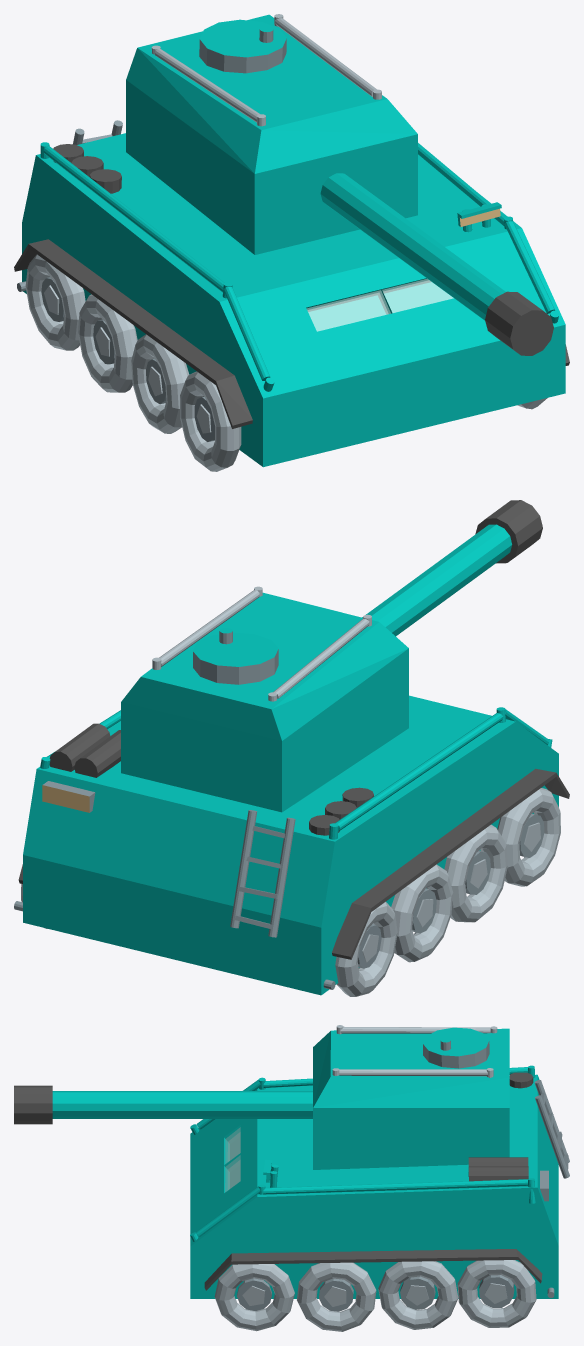
File: tank.glb
The picture shows the model from 3 angles, top to bottom: view 1: azimuth 30°, elevation 25°; view 2: azimuth 150°, elevation 25°; view 3: azimuth 270°, elevation 25°; orthographic projection. The views are drawn at different scales.
Parts seen in each view (by area): view 1: group86509209, group1756563036, group817116119, group1232243309, group582267779, group734967092, group536446600, group629430316, group1270404686, group893775564, group1811057353, group992683376 (+4 smaller); view 2: group86509209, group1756563036, group1232243309, group817116119, group734967092, group536446600, group582267779, group1270404686, group629430316, group893775564, group992683376, group369301269 (+6 smaller); view 3: group86509209, group1756563036, group817116119, group118968215, group405757797, group1013115455, group1070314612, group796567886, group588771903, group1270404686, group992683376, group891633796 (+6 smaller).
Boxes of the visible parts, x1,y1,x2,y2 form: group86509209: (22,133,565,467); group1756563036: (126,14,417,254); group817116119: (320,173,505,320); group1232243309: (14,239,252,428); group582267779: (78,294,137,392); group734967092: (180,371,241,471); group536446600: (131,334,189,433); group629430316: (25,254,85,350); group1270404686: (199,19,286,73); group893775564: (40,142,274,391); group1811057353: (307,279,453,331); group992683376: (485,291,553,355); group86509209: (23,695,558,995); group1756563036: (121,592,408,812); group1232243309: (332,768,569,959); group817116119: (362,524,512,636); group734967092: (497,788,560,886); group536446600: (444,824,507,922); group582267779: (391,864,453,962); group1270404686: (193,632,278,684); group629430316: (335,901,397,996); group893775564: (329,707,552,839); group992683376: (475,500,542,563); group369301269: (49,723,110,771); group86509209: (190,1074,558,1298); group1756563036: (313,1028,509,1169); group817116119: (52,1091,312,1118); group118968215: (457,1260,536,1327); group405757797: (378,1261,458,1329); group1013115455: (297,1262,376,1331); group1070314612: (214,1264,294,1331); group796567886: (204,1249,542,1290); group588771903: (190,1178,535,1241); group1270404686: (423,1027,489,1068); group992683376: (14,1085,52,1124); group891633796: (339,1069,487,1076).
Size of the model in its own units: 0.8733 by 0.7595 by 1.58.
